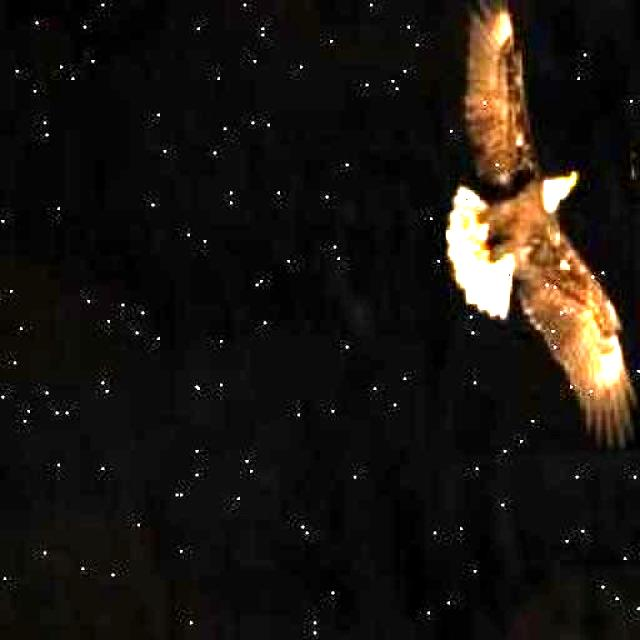airplane: (436, 0, 640, 455)
